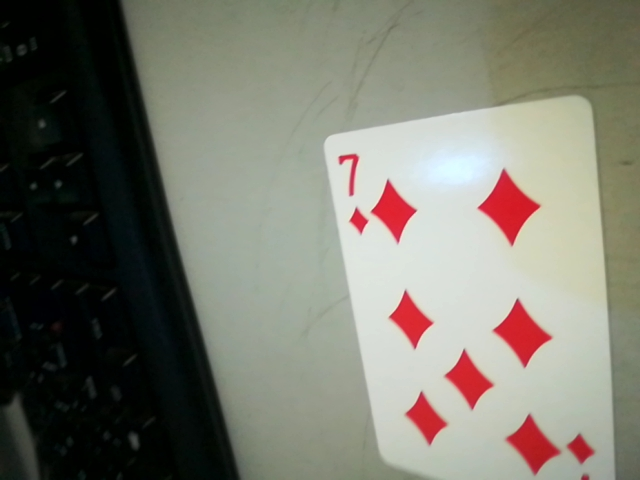fk 7: (325, 143, 375, 240)
